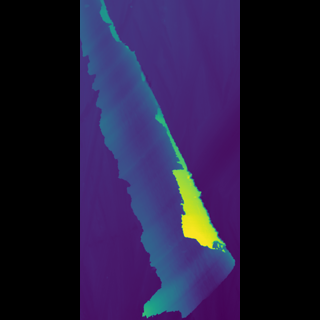Loch: (118, 2, 198, 318)
